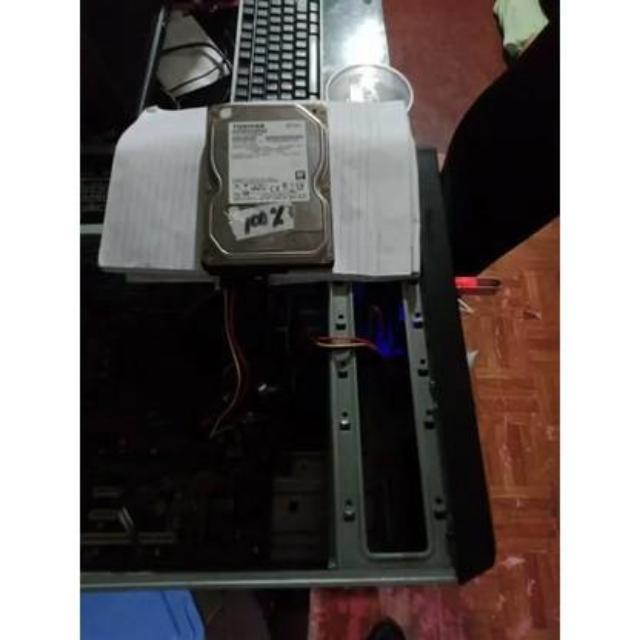DISK: (198, 95, 338, 270)
